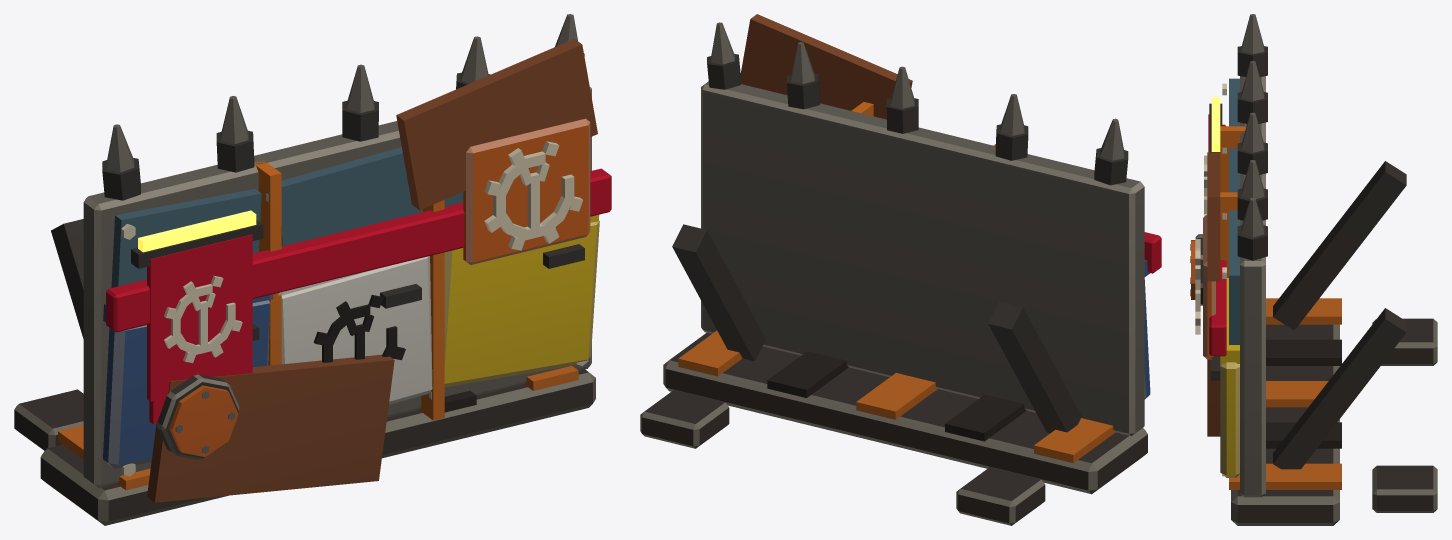
The model's file is bb_wall_chunks.glb.
3 views of the same model, side by side, from view 1: azimuth 30°, elevation 25°; view 2: azimuth 150°, elevation 25°; view 3: azimuth 270°, elevation 25° (orthographic). The views are drawn at different scales.
Parts seen in each view (by area): view 1: chunk_2, chunk_3, chunk_0, chunk_6, chunk_7, chunk_4, chunk_5, chunk_1; view 2: chunk_2, chunk_3, chunk_0, chunk_6, chunk_7, chunk_4, chunk_5, chunk_1; view 3: chunk_6, chunk_7, chunk_0, chunk_3, chunk_2, chunk_4, chunk_5, chunk_1.
Part boxes in pixels (x1,y1,x2,y2): chunk_2: [154, 261, 414, 502]; chunk_3: [108, 64, 446, 297]; chunk_0: [14, 255, 203, 525]; chunk_6: [471, 233, 598, 436]; chunk_7: [474, 14, 611, 253]; chunk_4: [382, 253, 498, 458]; chunk_5: [410, 37, 505, 258]; chunk_1: [51, 153, 154, 302]; chunk_2: [872, 240, 1082, 468]; chunk_3: [860, 65, 1128, 266]; chunk_0: [956, 243, 1161, 525]; chunk_6: [640, 214, 805, 448]; chunk_7: [672, 14, 826, 286]; chunk_4: [767, 229, 899, 442]; chunk_5: [796, 43, 878, 239]; chunk_1: [988, 144, 1161, 341]; chunk_6: [1210, 356, 1437, 525]; chunk_7: [1195, 160, 1406, 386]; chunk_0: [1190, 185, 1437, 365]; chunk_3: [1204, 14, 1267, 192]; chunk_2: [1190, 176, 1341, 436]; chunk_4: [1266, 394, 1341, 454]; chunk_5: [1203, 160, 1267, 298]; chunk_1: [1209, 46, 1406, 203].
Bounding box in the file's own units: 2.2 × 1.66 × 1.14.
